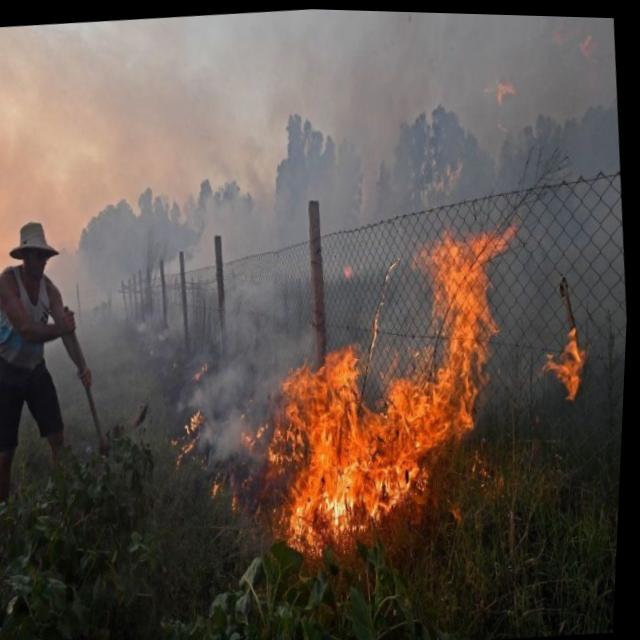Fire: (225, 199, 551, 582), (162, 342, 282, 522), (535, 316, 600, 403)
